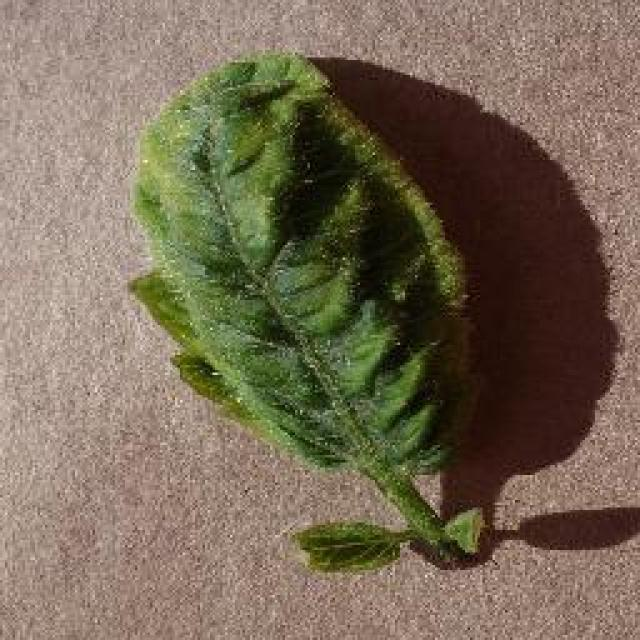Tomato yellow virus leaf: (123, 46, 485, 486)
